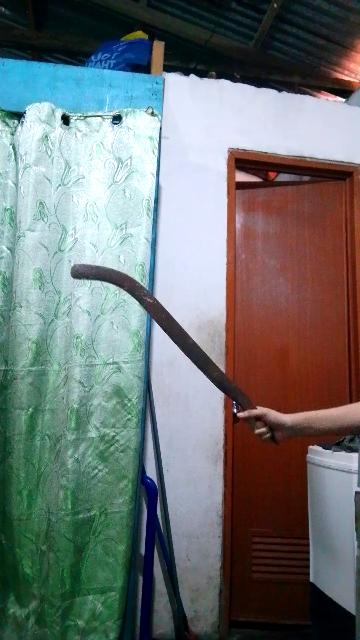long knife: (59, 259, 285, 453)
